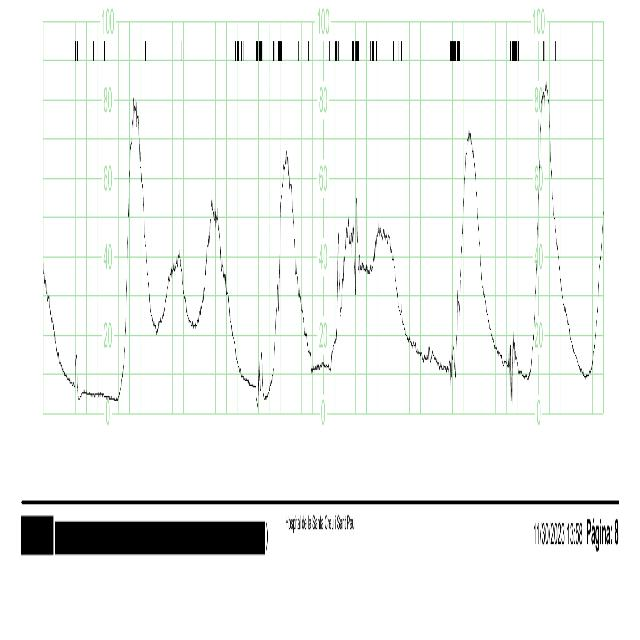contraction: (526, 76, 565, 378), (119, 83, 153, 388), (266, 153, 303, 382), (455, 129, 484, 367), (335, 199, 362, 351), (200, 203, 227, 303), (163, 241, 187, 332)
